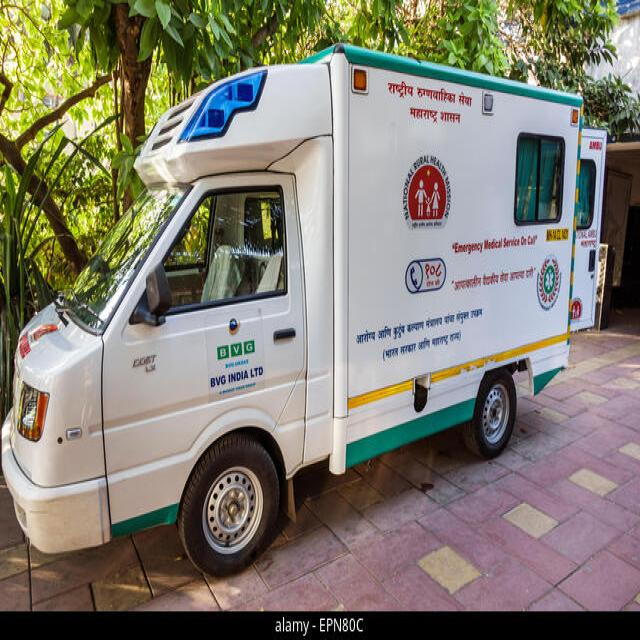emergency: (2, 45, 582, 572)
